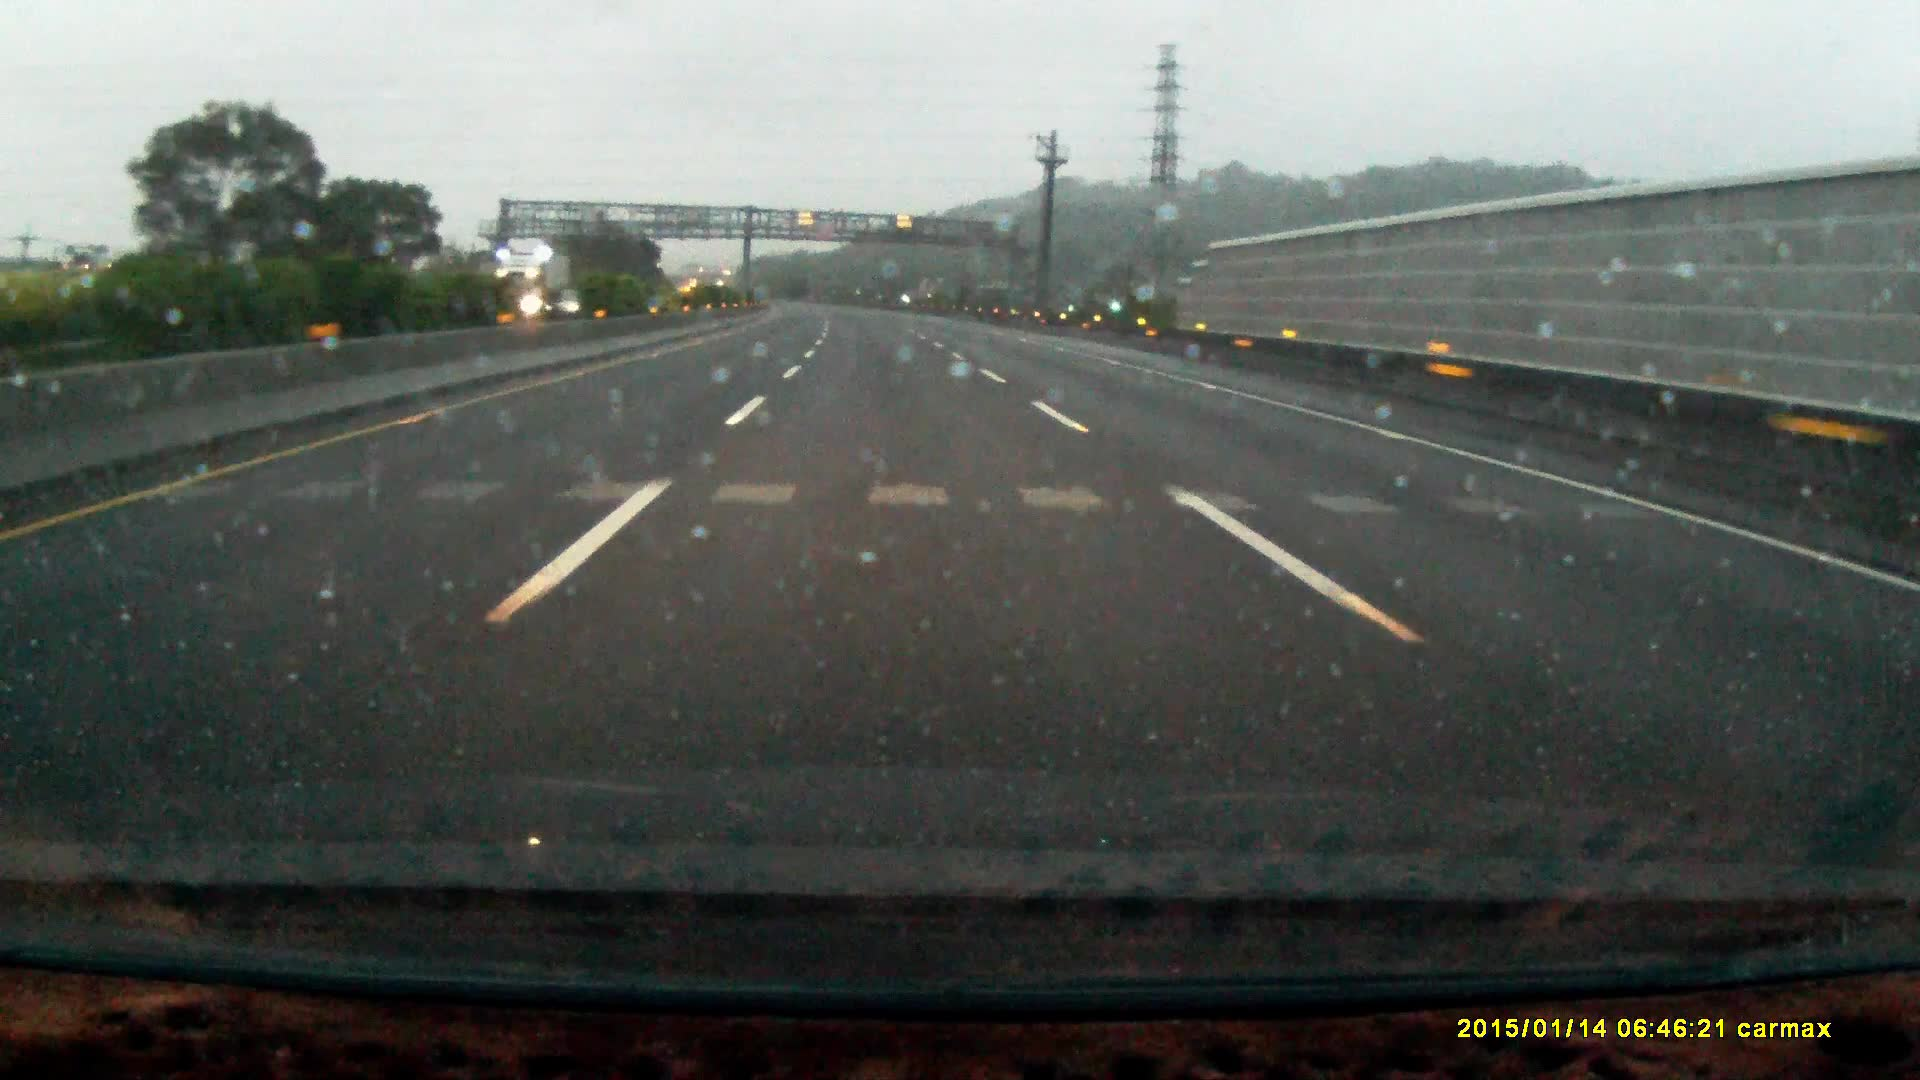vehicle: (495, 255, 574, 319)
